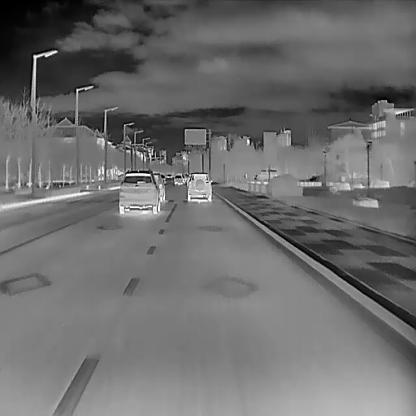car: (118, 168, 160, 213), (186, 172, 212, 201), (153, 171, 164, 201), (174, 173, 184, 185)
